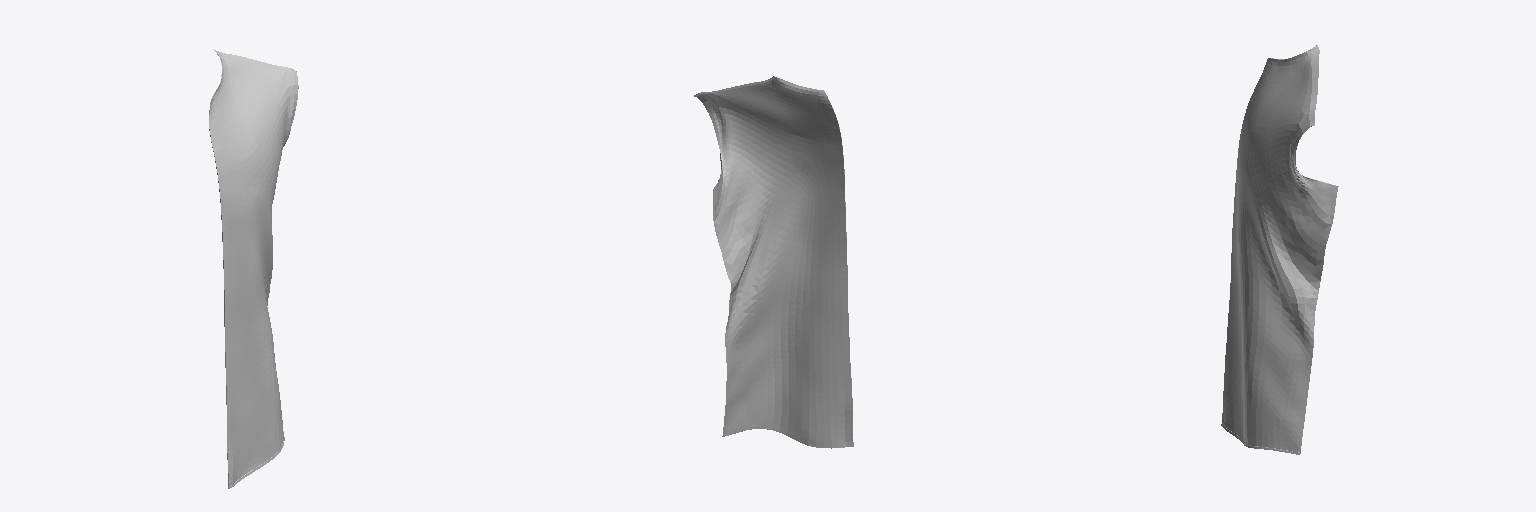
3 views of the same model, side by side, from view 1: azimuth 30°, elevation 25°; view 2: azimuth 150°, elevation 25°; view 3: azimuth 270°, elevation 25° (orthographic).
Visible parts, largest first — view 1: cropped:ZBrushPolyMesh3D1 cropped:polySurface529 polySurface638 ; view 2: cropped:ZBrushPolyMesh3D1 cropped:polySurface529 polySurface638 ; view 3: cropped:ZBrushPolyMesh3D1 cropped:polySurface529 polySurface638 .
Boxes of the visible parts, box(x1,y1,x2,y2) form: cropped:ZBrushPolyMesh3D1 cropped:polySurface529 polySurface638 : box(209, 49, 298, 488); cropped:ZBrushPolyMesh3D1 cropped:polySurface529 polySurface638 : box(694, 76, 853, 448); cropped:ZBrushPolyMesh3D1 cropped:polySurface529 polySurface638 : box(1221, 45, 1338, 454).
Size of the model in its own units: 20.11 by 66.69 by 17.77.